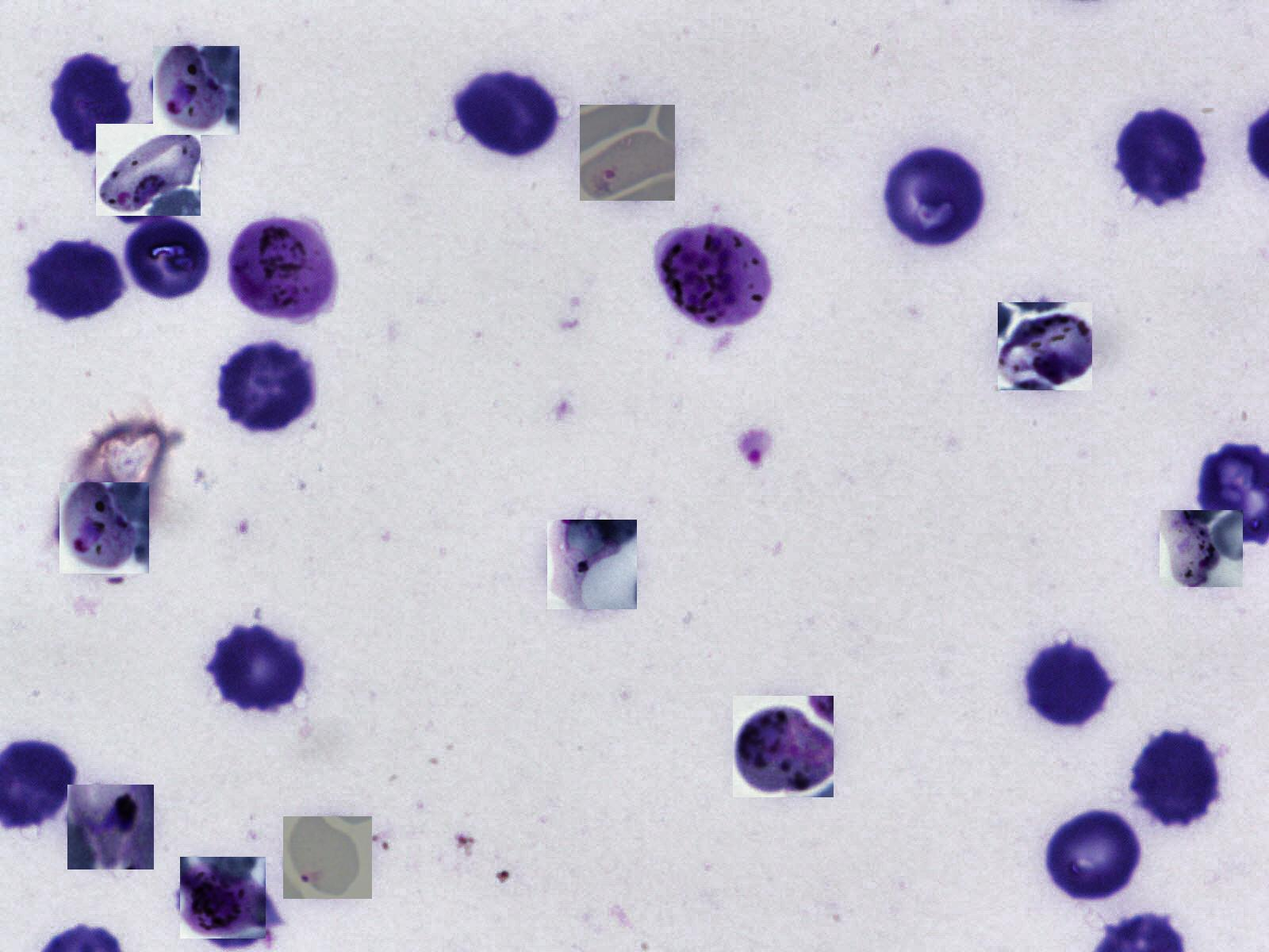Infected: (658, 221, 771, 328), (229, 216, 336, 324), (733, 696, 834, 797), (96, 124, 201, 216), (580, 105, 675, 201), (59, 482, 149, 574), (998, 302, 1092, 390), (547, 520, 637, 609), (153, 46, 240, 135), (284, 816, 373, 899), (67, 785, 154, 869), (180, 857, 266, 939), (1160, 511, 1243, 588)
Uninfected: (877, 146, 985, 255), (1047, 809, 1144, 903), (217, 340, 316, 431), (455, 71, 558, 158), (1117, 109, 1208, 202), (211, 624, 305, 713), (1133, 731, 1223, 823), (25, 240, 125, 321), (124, 210, 209, 304), (1029, 646, 1110, 741), (51, 53, 134, 143)
